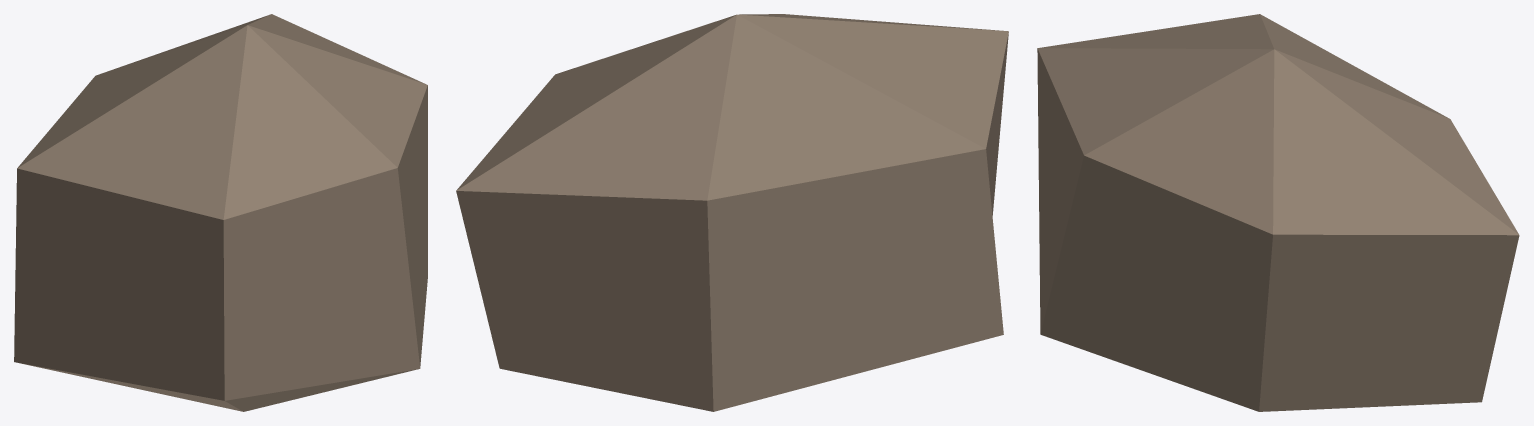
File: roca_mediana.glb
The picture shows the model from 3 angles, left to right: view 1: azimuth 30°, elevation 25°; view 2: azimuth 150°, elevation 25°; view 3: azimuth 270°, elevation 25°; orthographic projection. The views are drawn at different scales.
Visible parts, largest first — view 1: Rock_5; view 2: Rock_5; view 3: Rock_5.
Boxes of the visible parts, x1,y1,x2,y2 form: Rock_5: (14, 14, 427, 411); Rock_5: (456, 14, 1008, 411); Rock_5: (1037, 14, 1519, 411).
Size of the model in its own units: 1.42 by 1.18 by 1.42.
